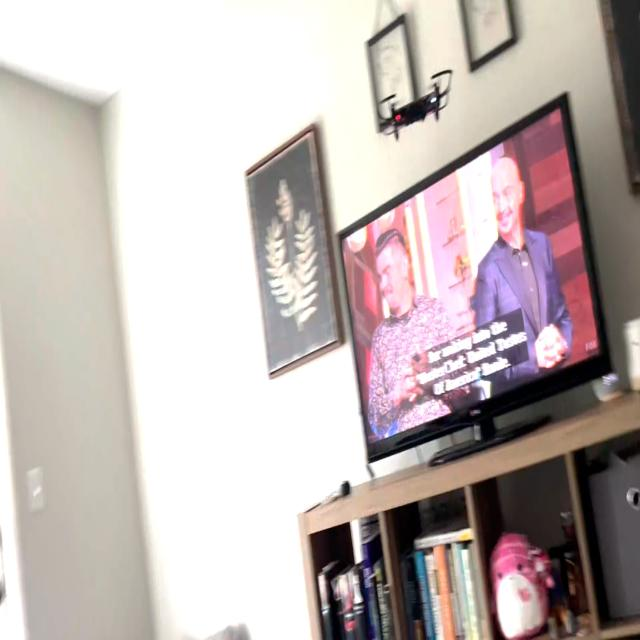drone: (372, 66, 458, 148)
